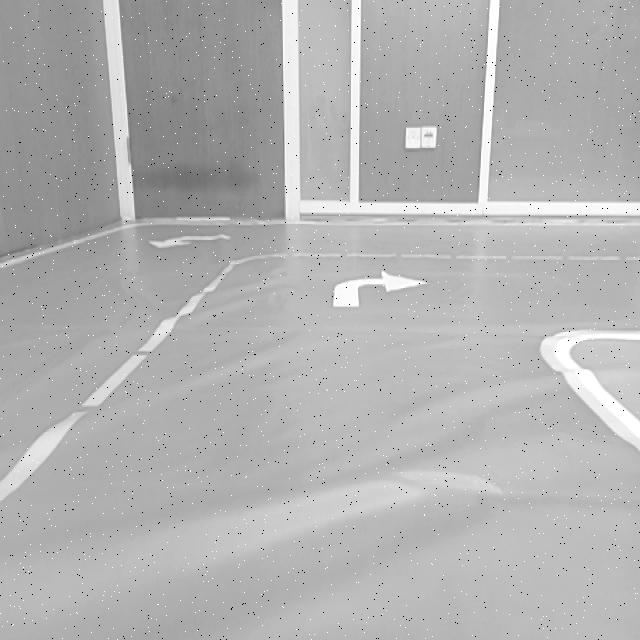left_lane: (1, 264, 237, 503)
right_lane: (541, 349, 640, 454)
